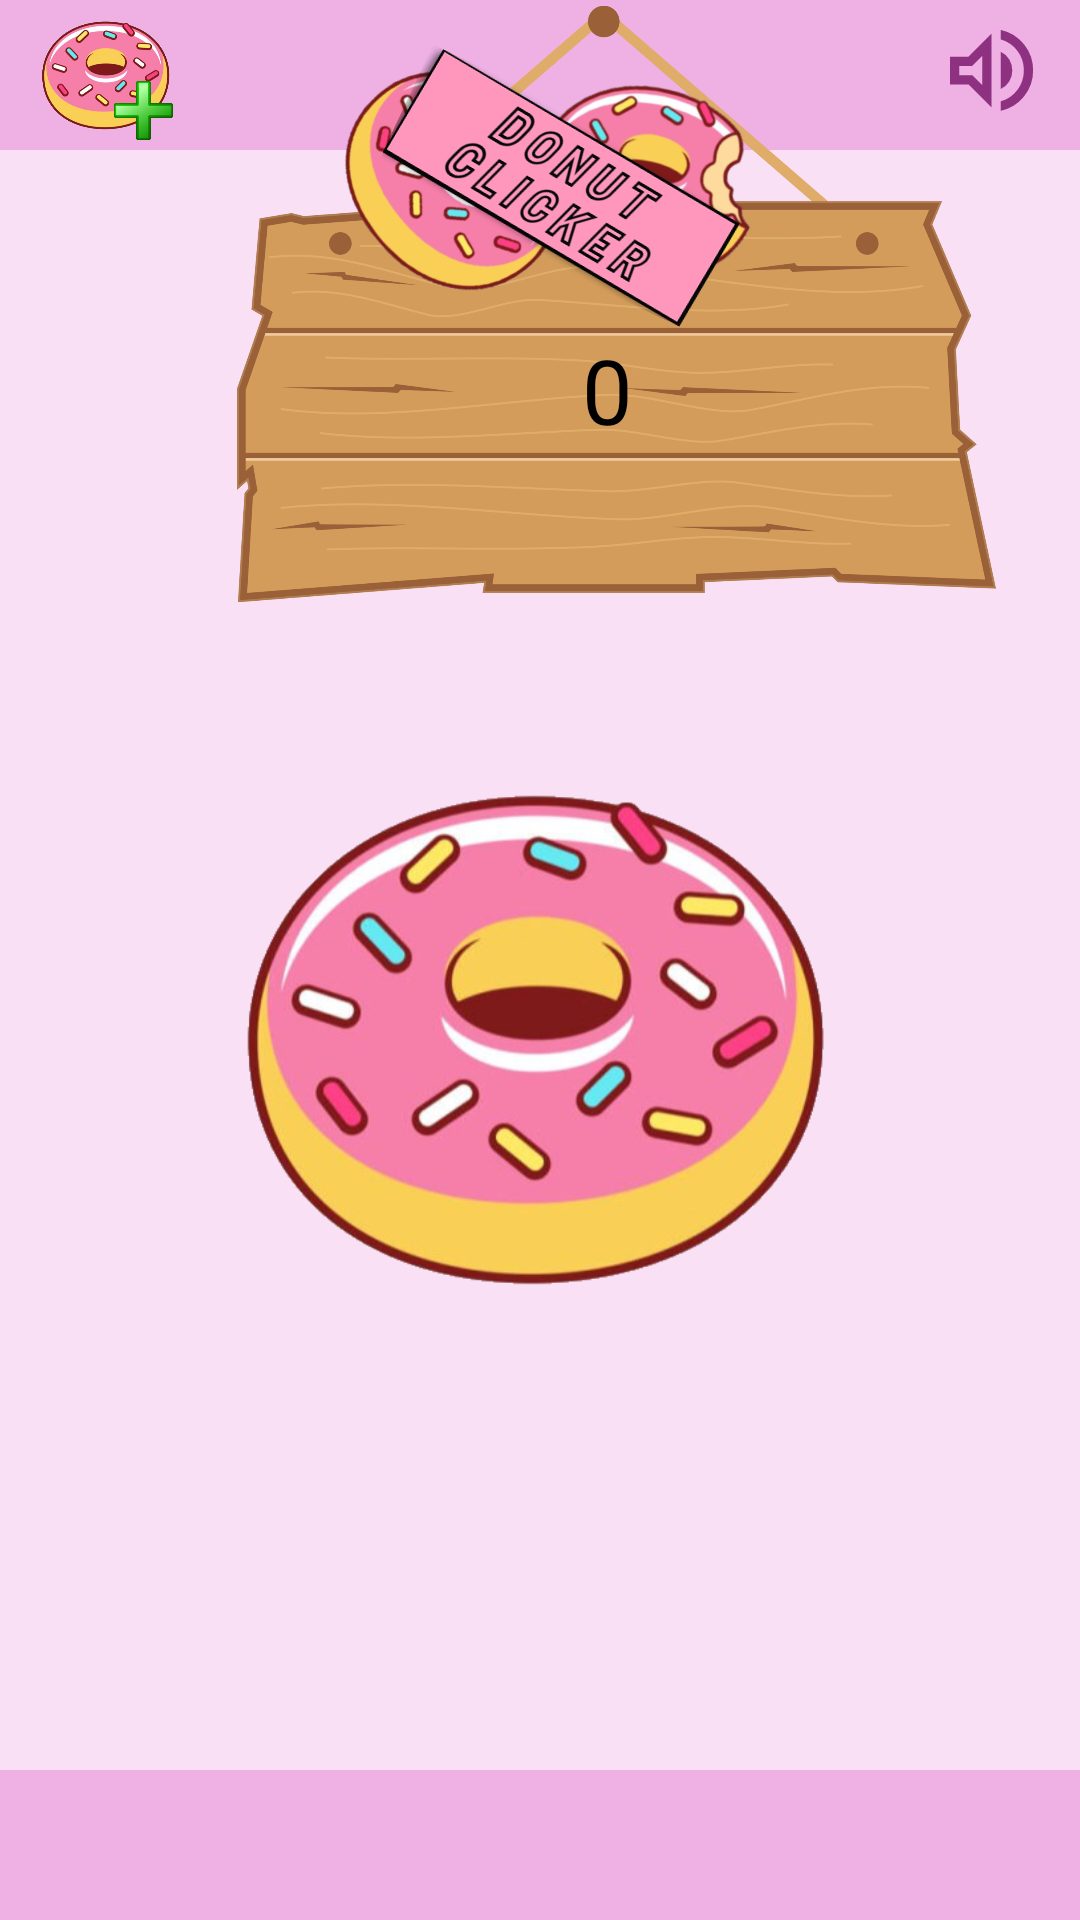

Named icons in this screenshot (1080px x 1920px) and their bounding boxes, box=[x1, y1, x2, y2]:
donut shop: box=[42, 21, 173, 140]
